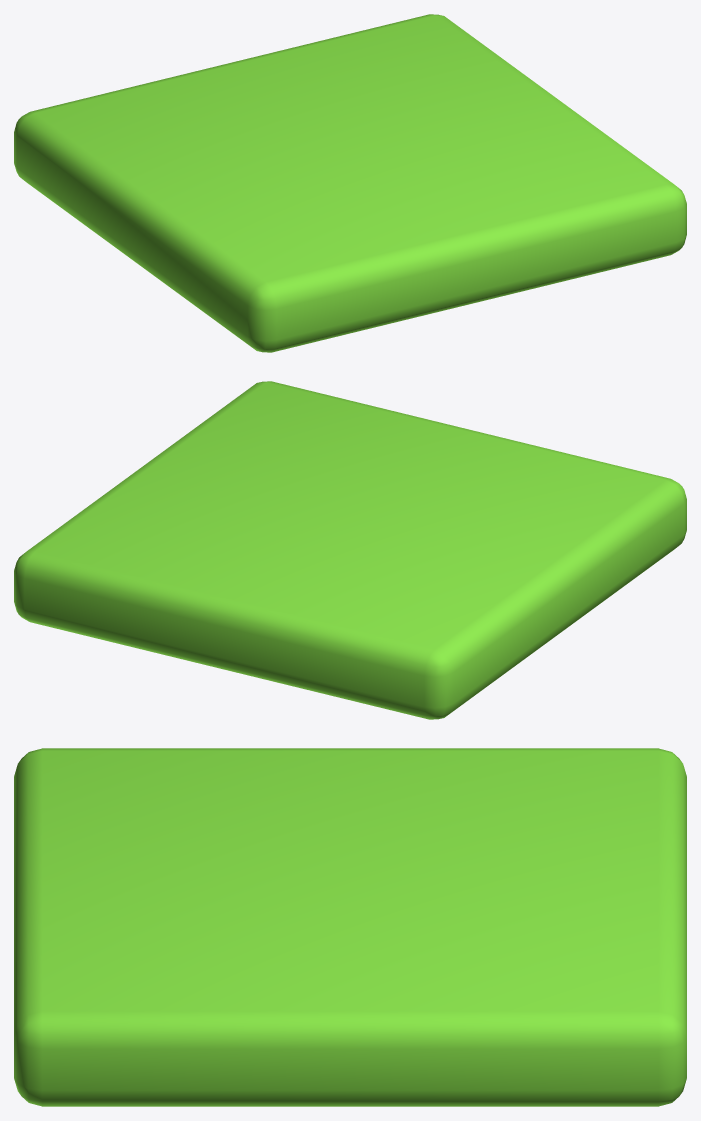
The model's file is Tile.glb.
3 renders of one model, top to bottom at view 1: azimuth 30°, elevation 25°; view 2: azimuth 150°, elevation 25°; view 3: azimuth 270°, elevation 25°, orthographic. The views are drawn at different scales.
Parts seen in each view (by area): view 1: Cube; view 2: Cube; view 3: Cube.
Part boxes in pixels (box(x1,y1,x2,y2)): Cube: box(14, 14, 686, 352); Cube: box(14, 381, 686, 719); Cube: box(14, 748, 686, 1106).
Size of the model in its own units: 2 by 0.3038 by 2.
